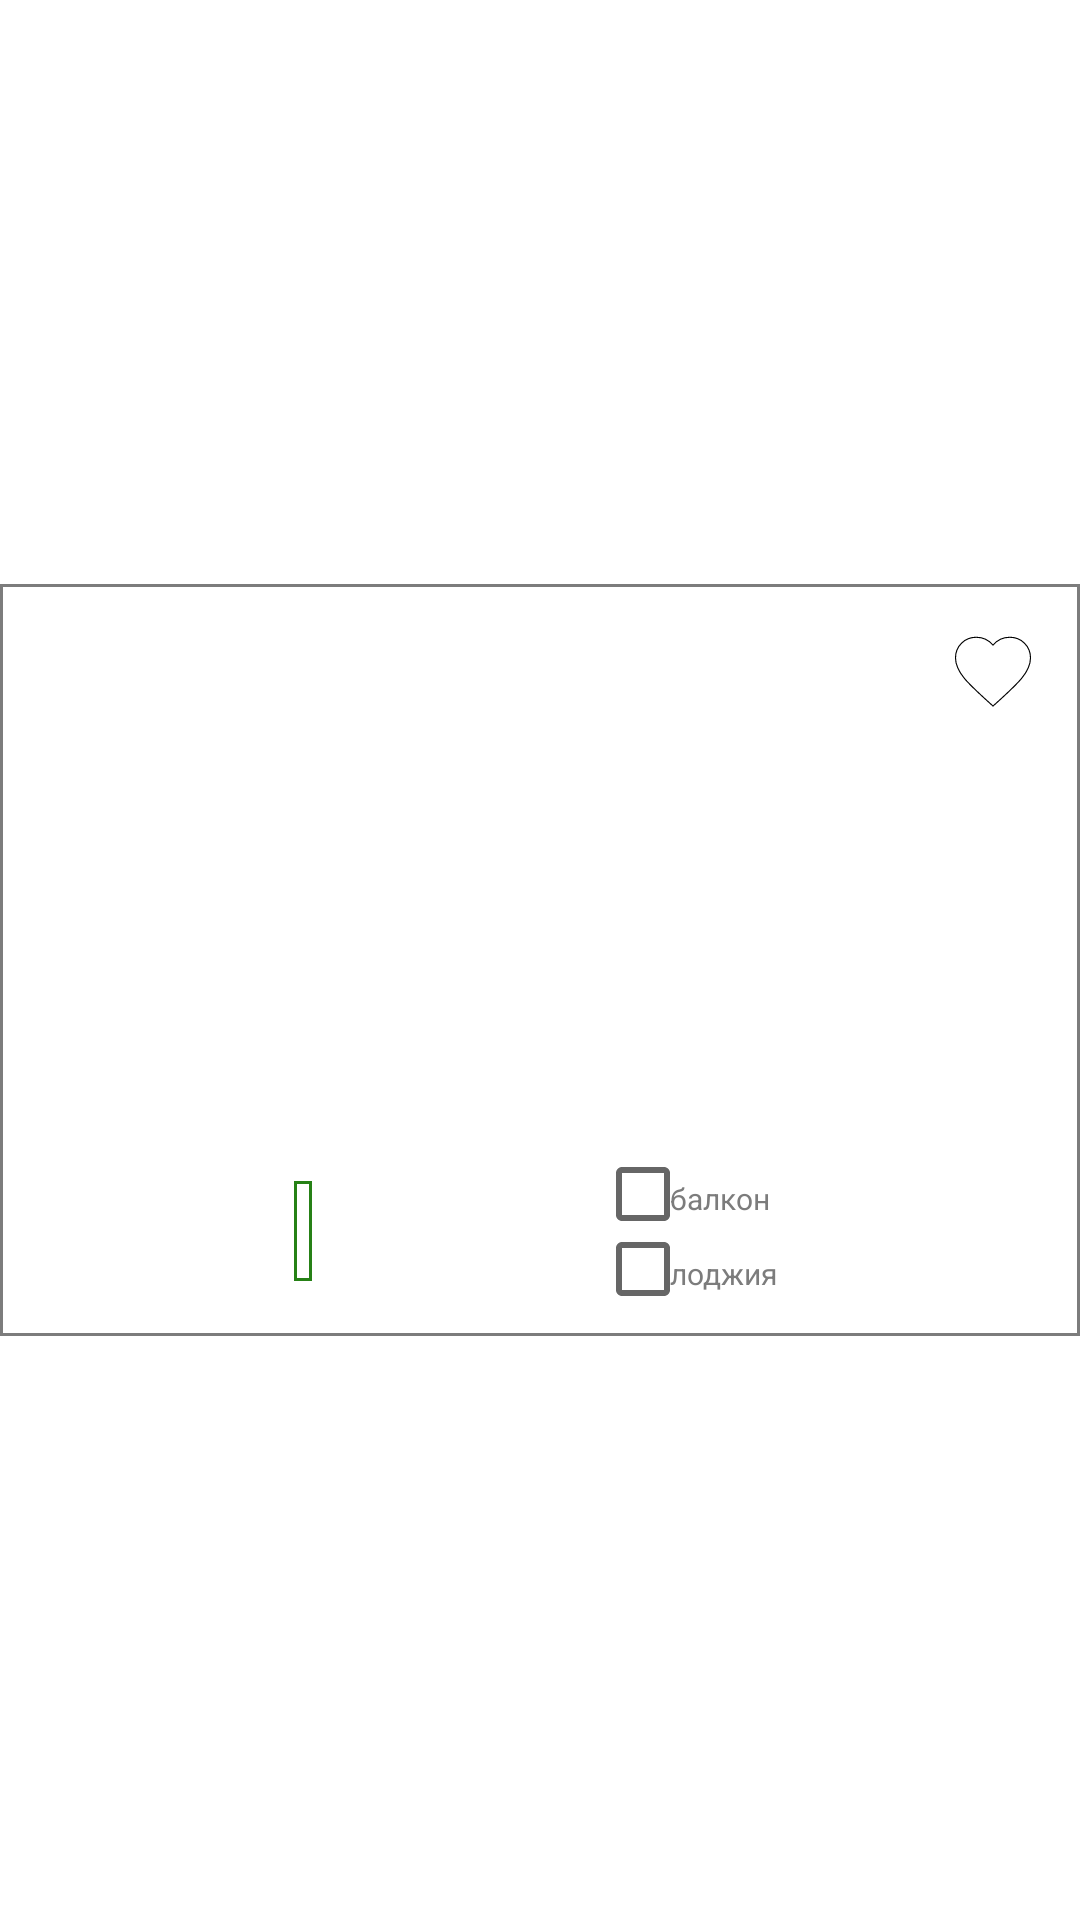

Icons on this 1080px×1920px Android screen, each with its box as (x1, y1, x2, y2):
heart: (955, 636, 1031, 707)
